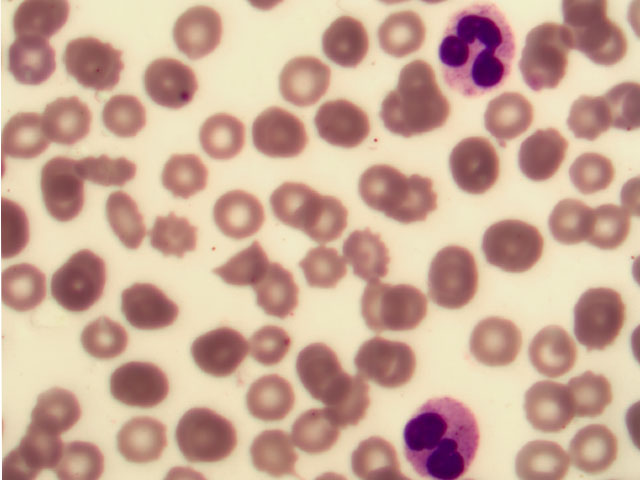RBC: (7, 31, 62, 85), (63, 38, 118, 92), (97, 87, 152, 141), (37, 93, 92, 147), (1, 104, 56, 158), (36, 160, 91, 214), (80, 148, 135, 202), (100, 189, 155, 243), (144, 205, 199, 259), (156, 153, 211, 207), (194, 108, 249, 162), (248, 108, 303, 162), (276, 51, 331, 105), (315, 20, 370, 74), (369, 9, 424, 63), (175, 6, 230, 60), (145, 57, 200, 111), (371, 85, 426, 139), (389, 59, 444, 113), (316, 94, 371, 148), (348, 158, 403, 212), (385, 174, 440, 228), (444, 141, 499, 195), (473, 96, 528, 150), (517, 125, 572, 179), (519, 47, 574, 101), (528, 14, 583, 68), (585, 6, 640, 60), (561, 93, 616, 147), (564, 144, 619, 198), (539, 196, 594, 250), (575, 193, 630, 247), (484, 221, 539, 275), (424, 252, 479, 306), (386, 282, 441, 336), (355, 278, 410, 332), (343, 228, 398, 282), (306, 240, 361, 294), (301, 192, 356, 246), (275, 177, 330, 231), (212, 188, 267, 242), (214, 242, 269, 296), (252, 265, 307, 319), (128, 280, 183, 334), (71, 310, 126, 364), (52, 263, 107, 317), (57, 233, 112, 287), (2, 260, 57, 314), (108, 351, 163, 405), (192, 326, 247, 380), (246, 314, 301, 368), (246, 371, 301, 425), (286, 340, 341, 394), (359, 334, 414, 388), (472, 313, 527, 367), (536, 326, 591, 380), (573, 287, 628, 341), (566, 365, 621, 419), (515, 374, 570, 428), (516, 426, 571, 480), (558, 426, 613, 480), (344, 426, 399, 480), (292, 405, 347, 459), (329, 376, 384, 430), (257, 425, 312, 479), (181, 407, 236, 461), (115, 412, 170, 466), (59, 426, 114, 480), (28, 426, 83, 480), (30, 382, 85, 436)
WBC: (440, 4, 518, 94), (400, 397, 483, 480)
